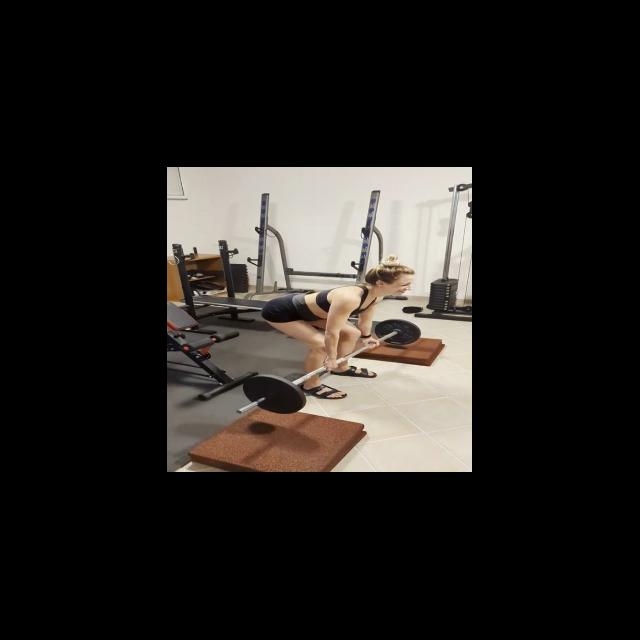barbell: (233, 372, 308, 416)
